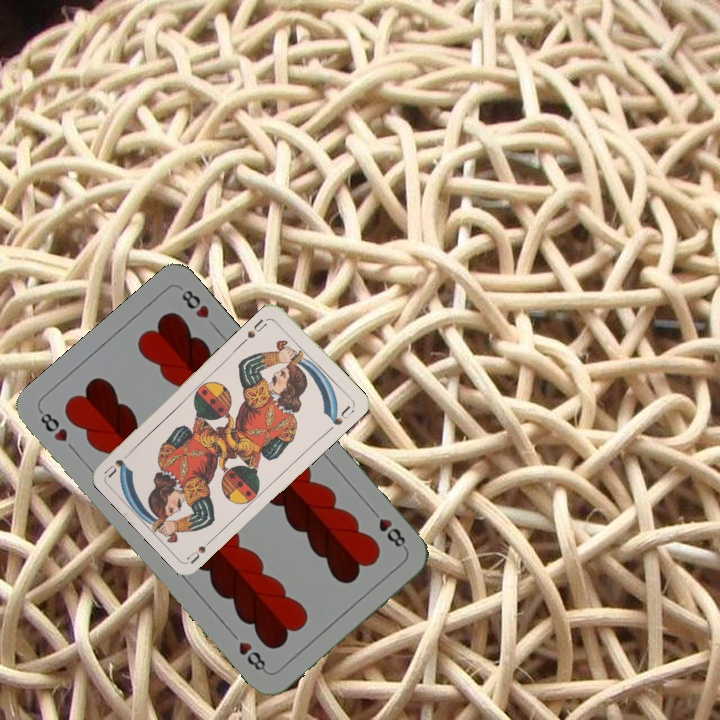H8: (366, 504, 410, 553), (35, 406, 70, 445)
SU: (183, 532, 219, 566), (243, 315, 269, 341)
